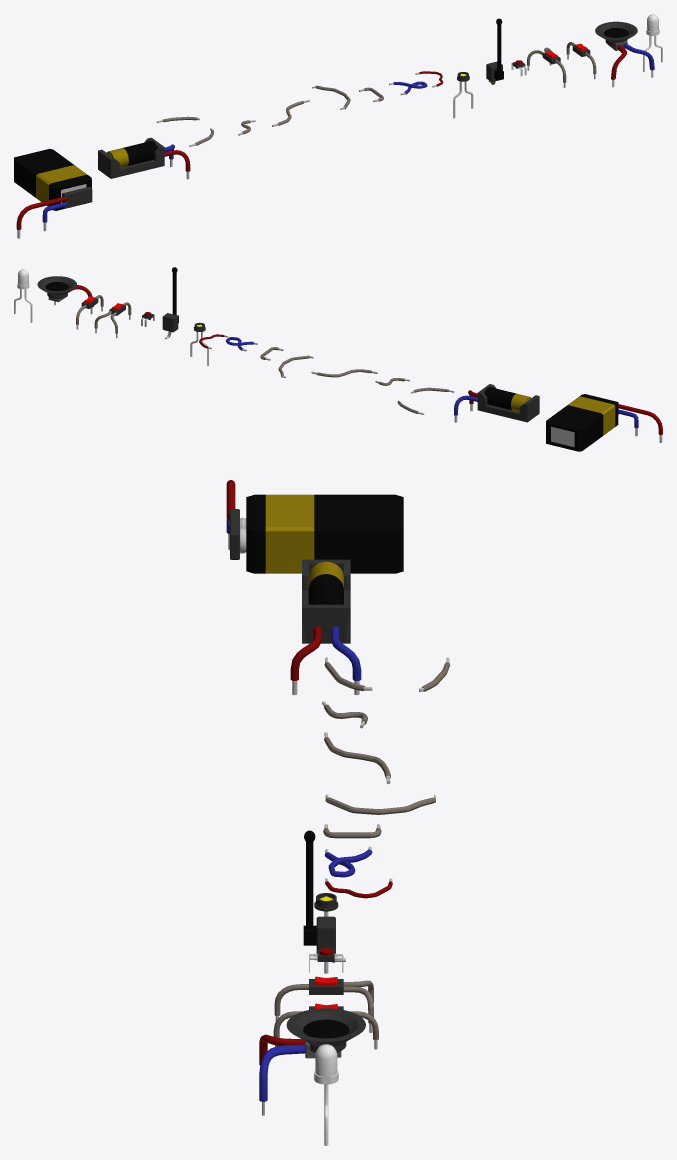
Rendered from Extra parts.fbx.
3 views of the same model, one above another, from view 1: azimuth 30°, elevation 25°; view 2: azimuth 150°, elevation 25°; view 3: azimuth 270°, elevation 25° (orthographic). The views are drawn at different scales.
Visible parts, largest first — view 1: Battery 2, Battery case, Reprak, Battery 2 cables, Battery, Led, Antena, Switch2; view 2: Battery 2, Battery case, Reprak, Battery, Battery 2 cables, Led, Switch2, Antena box; view 3: Battery 2, Reprak, Battery case, Battery, Switch2, Led, Antena.
Part boxes in pixels (x1,y1,x2,y2): Battery 2: (14,148,91,210); Battery case: (98,137,190,179); Reprak: (595,21,654,87); Battery 2 cables: (16,186,92,238); Battery: (107,141,157,167); Led: (643,14,662,71); Antena: (494,18,503,80); Switch2: (527,47,566,87); Battery 2: (546,394,618,451); Battery case: (454,384,539,422); Reprak: (37,276,93,314); Battery: (484,387,531,412); Battery 2 cables: (618,402,662,442); Led: (14,269,32,322); Switch2: (94,302,131,338); Antena box: (162,313,178,339); Battery 2: (240,494,403,573); Reprak: (259,1008,365,1115); Battery case: (290,559,361,695); Battery: (308,561,343,604); Switch2: (274,979,373,1032); Led: (314,1044,338,1145); Antena: (303,830,316,945).
Bounding box in the file's own units: 11036 × 1450 × 1711.
